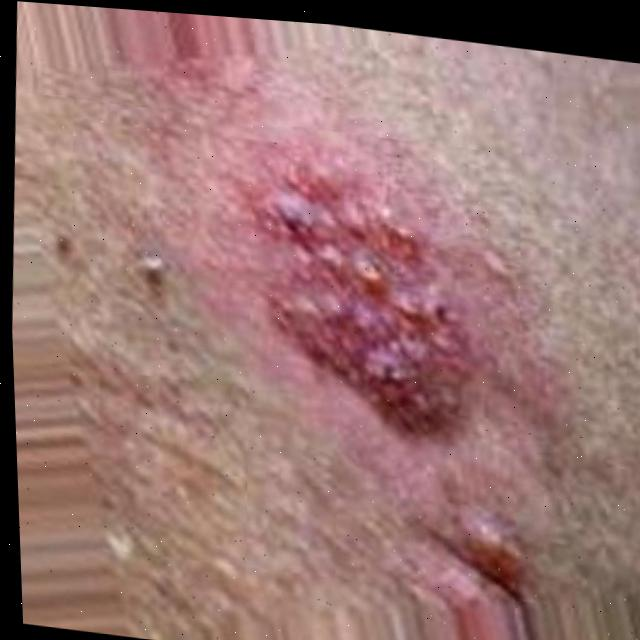Shingles: (241, 147, 506, 456)
